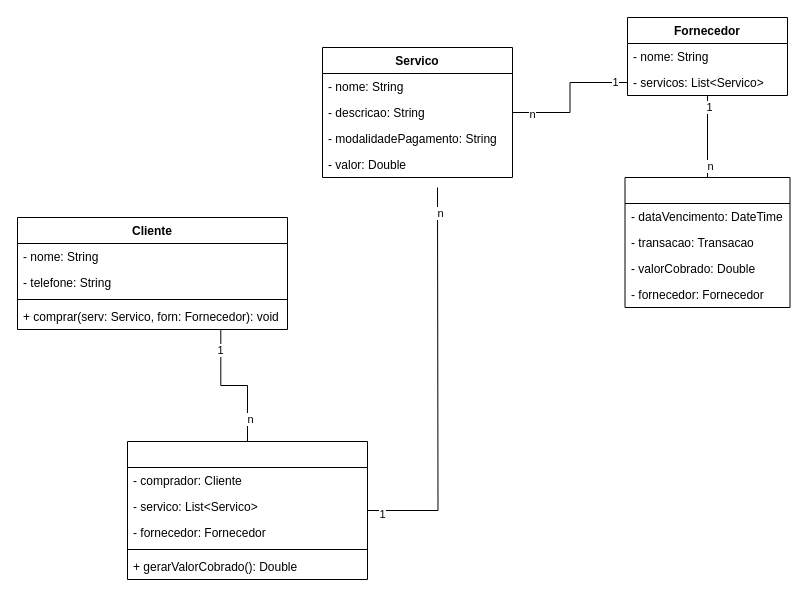
Image size: 808x600. Some labels were removed from this diagram. Each missing label, with the box of its shape:
InformacoesPagamento: (624, 176, 790, 308)
Transacao: (126, 440, 368, 580)
